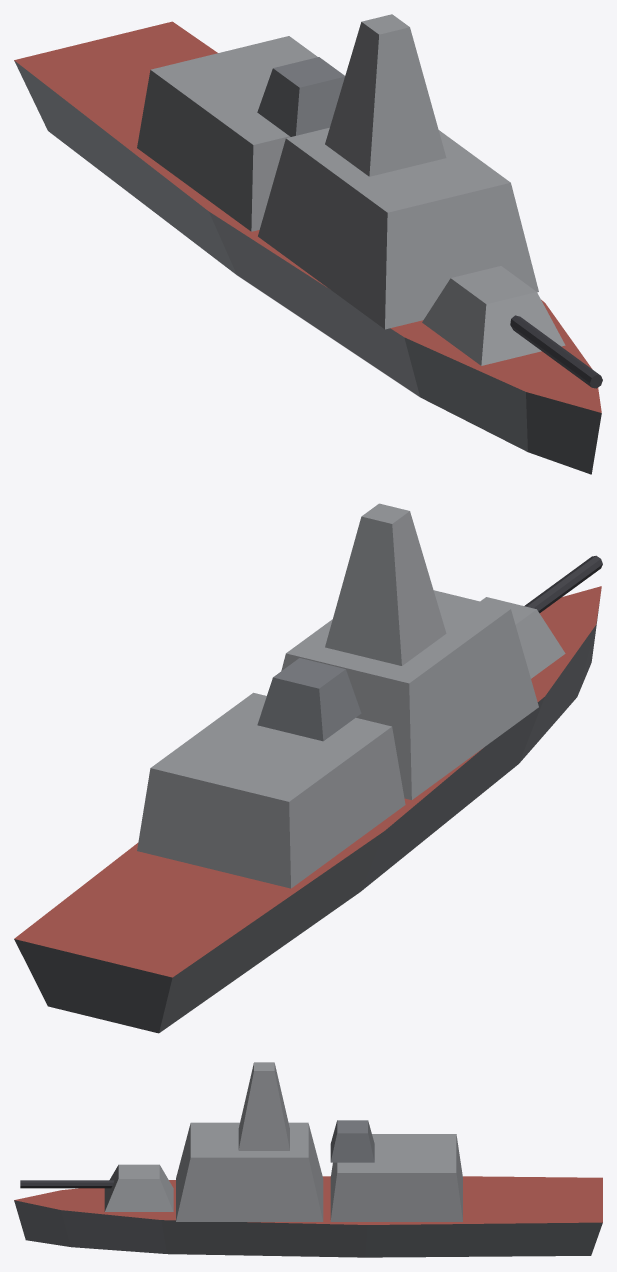
The model's file is enemy_medium.glb.
3 views of the same model, one above another, from view 1: azimuth 30°, elevation 25°; view 2: azimuth 150°, elevation 25°; view 3: azimuth 270°, elevation 25° (orthographic). The views are drawn at different scales.
Visible parts, largest first — view 1: EnemyMedium; view 2: EnemyMedium; view 3: EnemyMedium.
Boxes of the visible parts, box(x1,y1,x2,y2) form: EnemyMedium: box(14, 14, 602, 474); EnemyMedium: box(14, 503, 602, 1033); EnemyMedium: box(14, 1062, 602, 1257).
Bounding box in the file's own units: 1.6 × 2.6 × 8.
